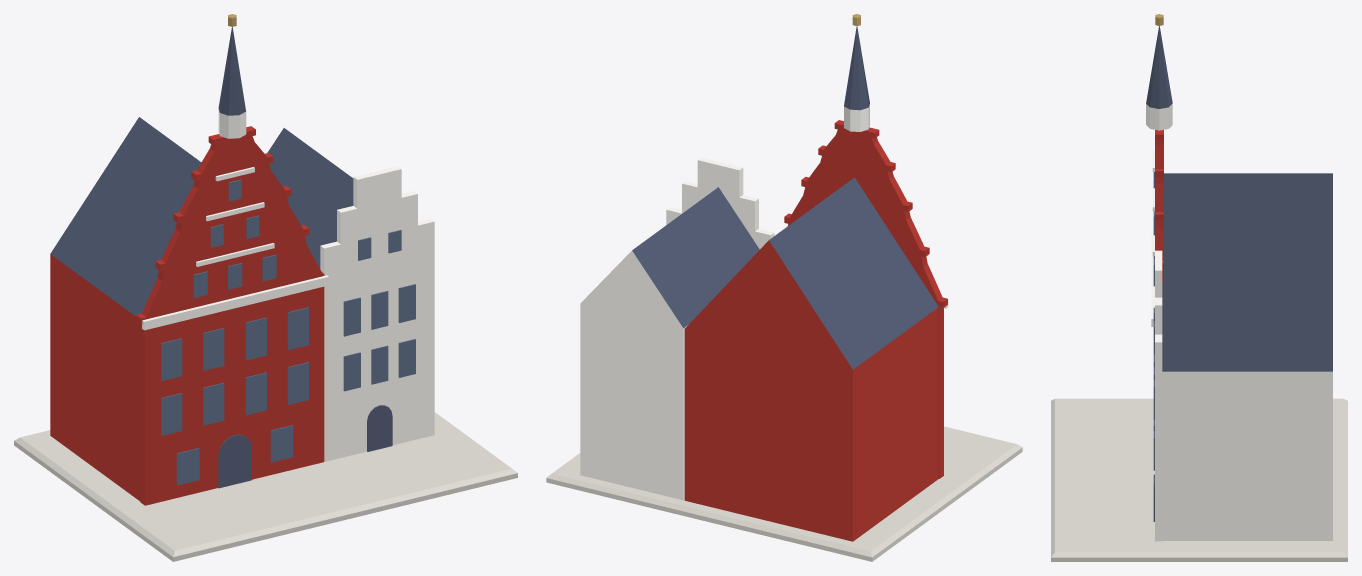
File: riga.glb
The picture shows the model from 3 angles, left to right: view 1: azimuth 30°, elevation 25°; view 2: azimuth 150°, elevation 25°; view 3: azimuth 270°, elevation 25°; orthographic projection. The views are drawn at different scales.
Parts seen in each view (by area): view 1: model; view 2: model; view 3: model.
Part boxes in pixels (bbox=[...]): model: bbox=[14, 14, 517, 561]; model: bbox=[546, 14, 1022, 561]; model: bbox=[1051, 14, 1347, 561].
Size of the model in its own units: 25 by 32.9 by 20.
